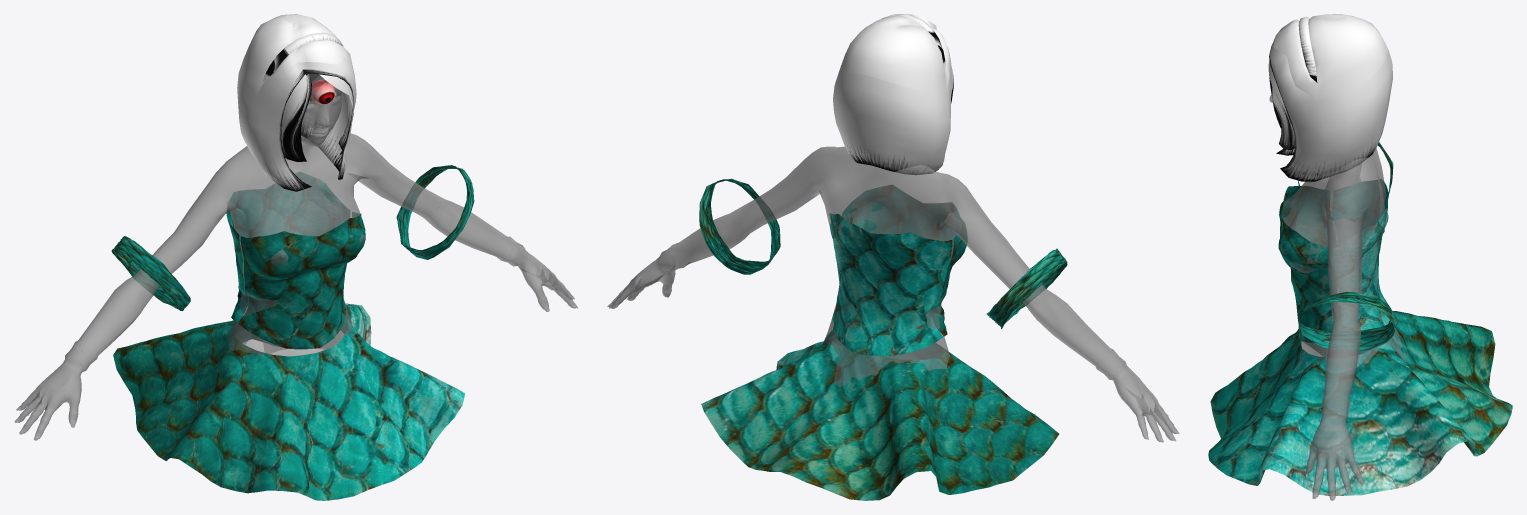
Rendered from albino.FBX.
3 views of the same model, side by side, from view 1: azimuth 30°, elevation 25°; view 2: azimuth 150°, elevation 25°; view 3: azimuth 270°, elevation 25° (orthographic).
Visible parts, largest first — view 1: Circle001, sdef:FaBody, Line002, sdef:FaFair, Line005, Line004; view 2: Circle001, sdef:FaBody, Line002, sdef:FaFair, Line004, Line005; view 3: Circle001, sdef:FaFair, sdef:FaBody, Line002, Line004.
Part boxes in pixels (x1,y1,x2,y2): Circle001: (113, 303, 464, 500); sdef:FaBody: (14, 73, 577, 440); Line002: (226, 172, 365, 349); sdef:FaFair: (237, 14, 356, 191); Line005: (111, 236, 190, 310); Line004: (396, 165, 474, 259); Circle001: (701, 330, 1059, 500); sdef:FaBody: (607, 146, 1179, 442); Line002: (828, 185, 967, 356); sdef:FaFair: (833, 14, 953, 175); Line004: (699, 178, 780, 274); Line005: (986, 248, 1067, 328); Circle001: (1208, 311, 1512, 495); sdef:FaFair: (1268, 14, 1392, 181); sdef:FaBody: (1269, 93, 1406, 500); Line002: (1278, 179, 1398, 343); Line004: (1298, 292, 1395, 351).
Size of the model in its own units: 18.5 by 13.75 by 8.73.
Materials: 5 (3 with a texture image).
